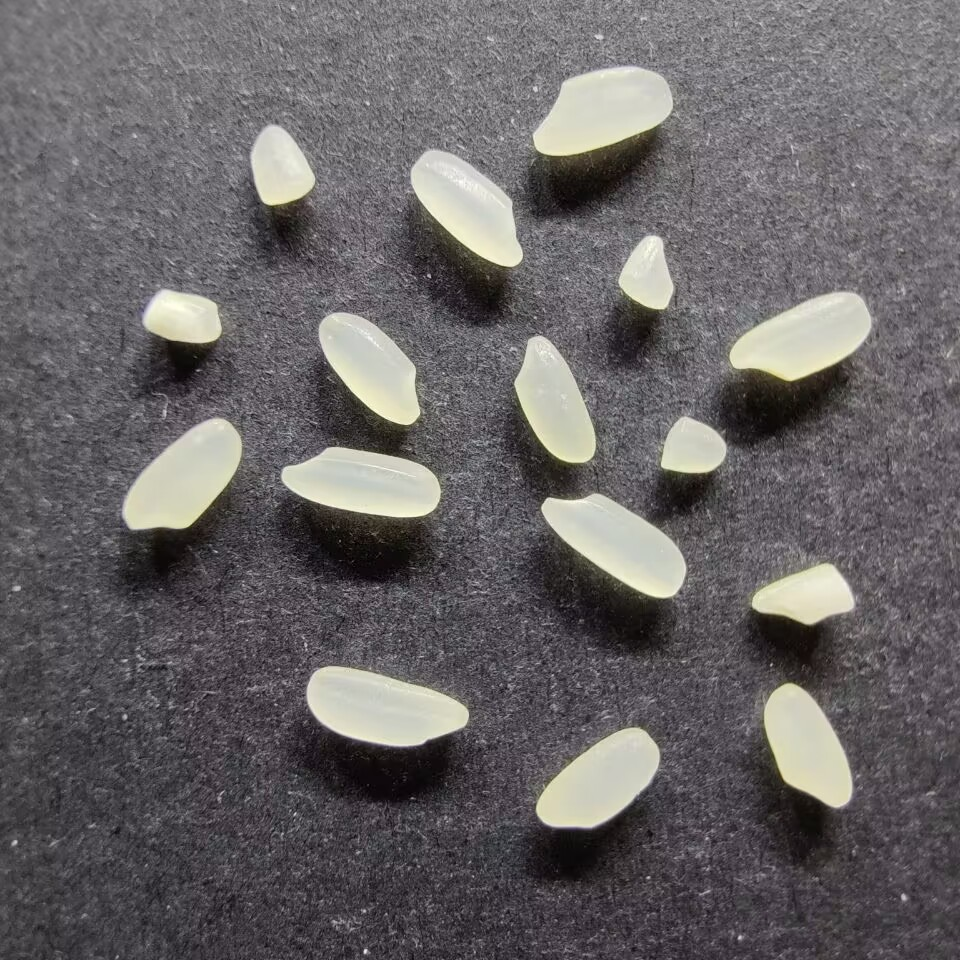broken: (750, 562, 855, 626), (249, 124, 314, 206), (139, 287, 222, 345), (616, 235, 676, 312), (659, 415, 727, 475)
rice: (539, 492, 686, 599), (121, 417, 242, 531), (409, 148, 523, 268), (305, 665, 468, 748), (728, 290, 872, 382), (531, 66, 673, 156), (535, 727, 659, 830), (317, 311, 421, 427), (280, 445, 441, 519), (761, 682, 853, 809), (512, 333, 596, 464)
